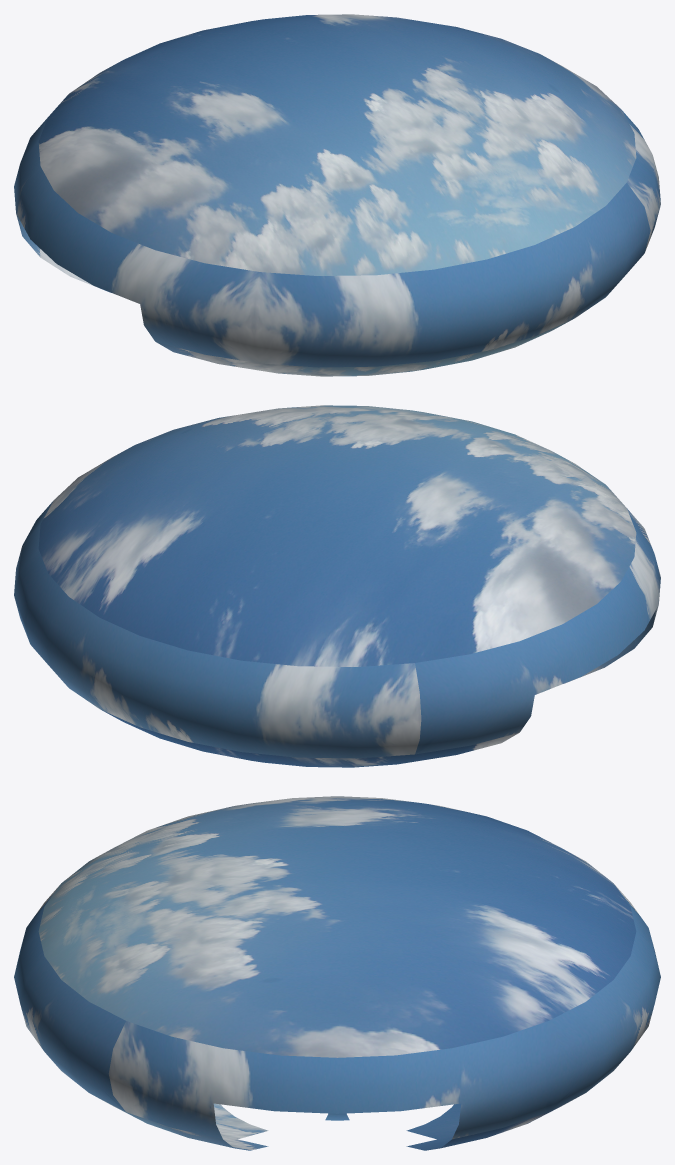
Rendered from map3.obj.
The picture shows the model from 3 angles, top to bottom: view 1: azimuth 30°, elevation 25°; view 2: azimuth 150°, elevation 25°; view 3: azimuth 270°, elevation 25°; orthographic projection.
Visible parts, largest first — view 1: Sphère; view 2: Sphère; view 3: Sphère.
Boxes of the visible parts, box(x1,y1,x2,y2) form: Sphère: box(14, 14, 660, 376); Sphère: box(14, 405, 660, 767); Sphère: box(14, 796, 660, 1150).
Size of the model in its own units: 11467 by 4662 by 11467.
Materials: 1 (1 with a texture image).
